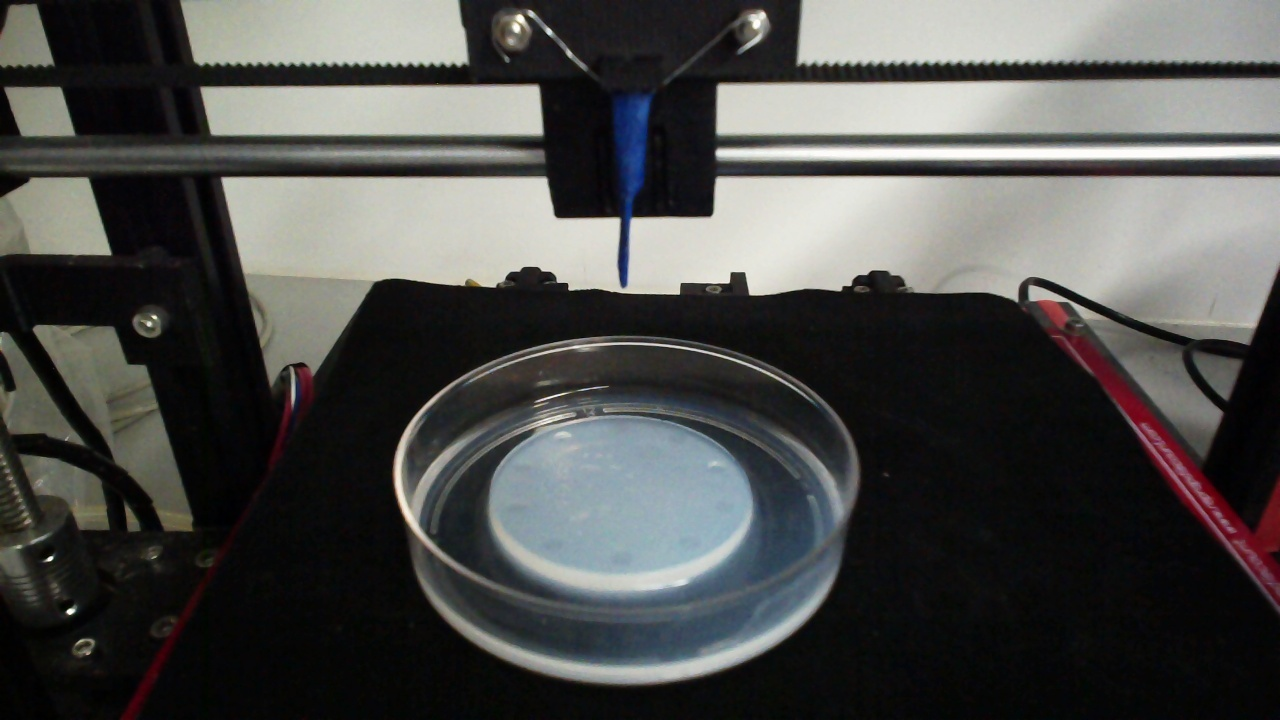groove: (675, 532, 702, 554), (705, 459, 731, 480), (710, 498, 739, 516), (608, 548, 633, 566), (663, 427, 688, 445), (540, 535, 564, 553), (607, 419, 632, 436), (505, 501, 528, 518), (512, 457, 532, 473), (553, 431, 573, 446)
needle: (611, 95, 653, 289)
